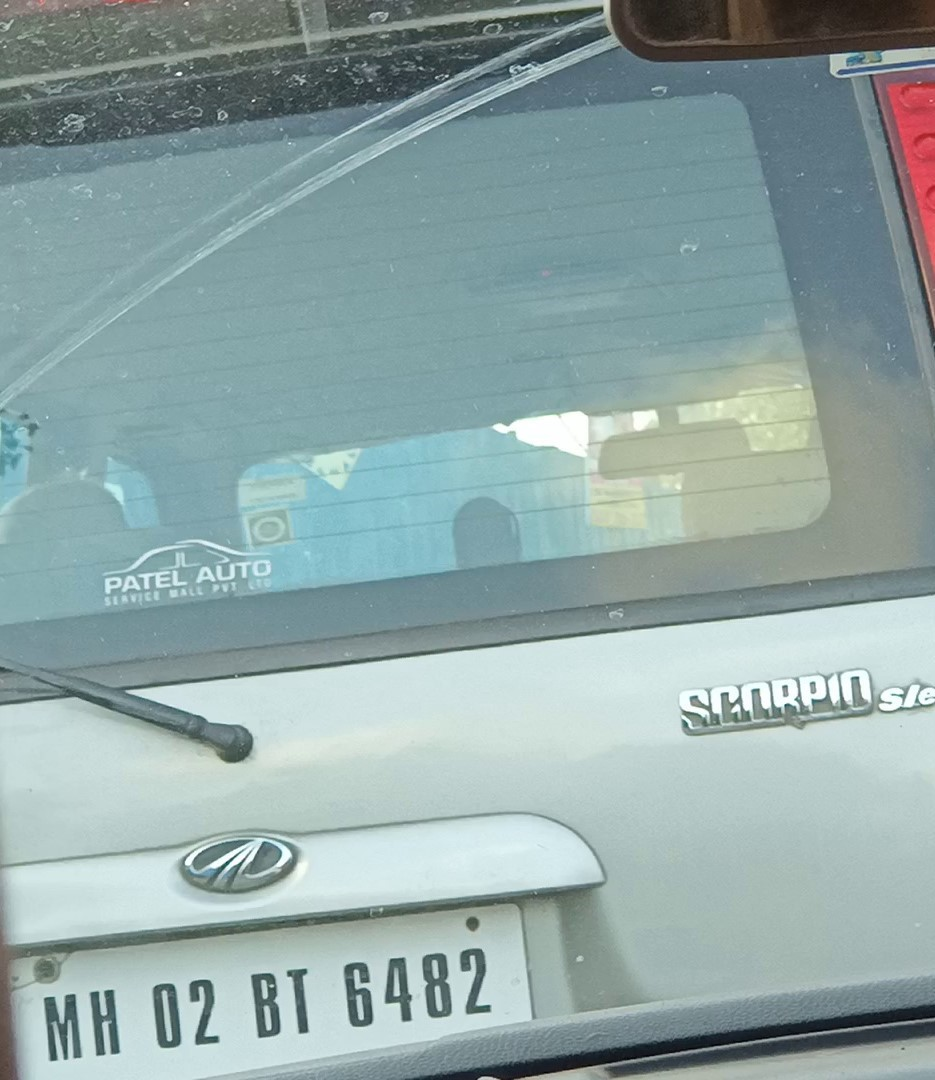MH02BT6482: (9, 901, 534, 1080)
